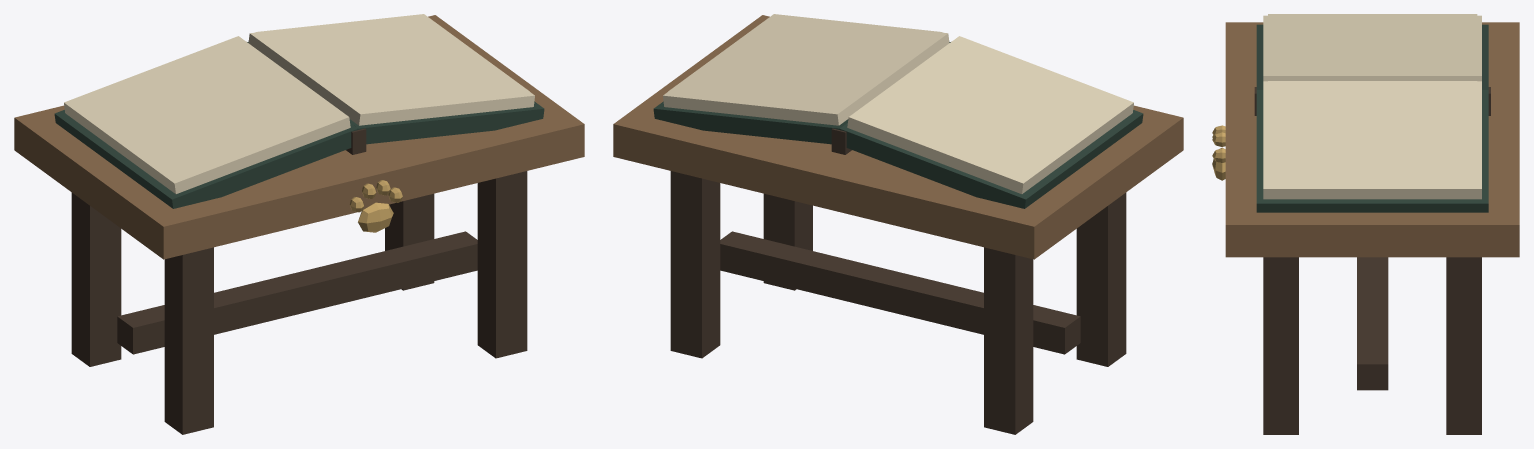
The model's file is 01_Footprints_Album.fbx.
3 renders of one model, left to right at view 1: azimuth 30°, elevation 25°; view 2: azimuth 150°, elevation 25°; view 3: azimuth 270°, elevation 25°, orthographic.
Parts seen in each view (by area): view 1: Structure, Page_Left, Page_Right; view 2: Structure, Page_Left, Page_Right; view 3: Structure, Page_Right, Page_Left.
Part boxes in pixels (x1=…): Structure: x1=14, y1=15, x2=584, y2=434; Page_Left: x1=69, y1=36, x2=343, y2=178; Page_Right: x1=255, y1=14, x2=529, y2=109; Structure: x1=613, y1=15, x2=1183, y2=434; Page_Left: x1=854, y1=36, x2=1128, y2=178; Page_Right: x1=668, y1=14, x2=942, y2=109; Structure: x1=1212, y1=15, x2=1519, y2=434; Page_Right: x1=1268, y1=81, x2=1477, y2=184; Page_Left: x1=1268, y1=14, x2=1477, y2=72.
Bounding box in the file's own units: 215 × 136 × 138.
